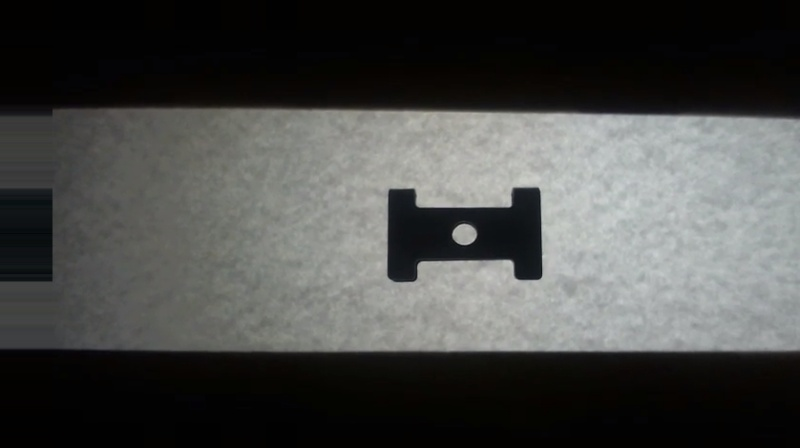O002: (383, 184, 548, 284)
